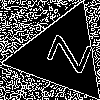Z: (36, 29, 93, 75)
